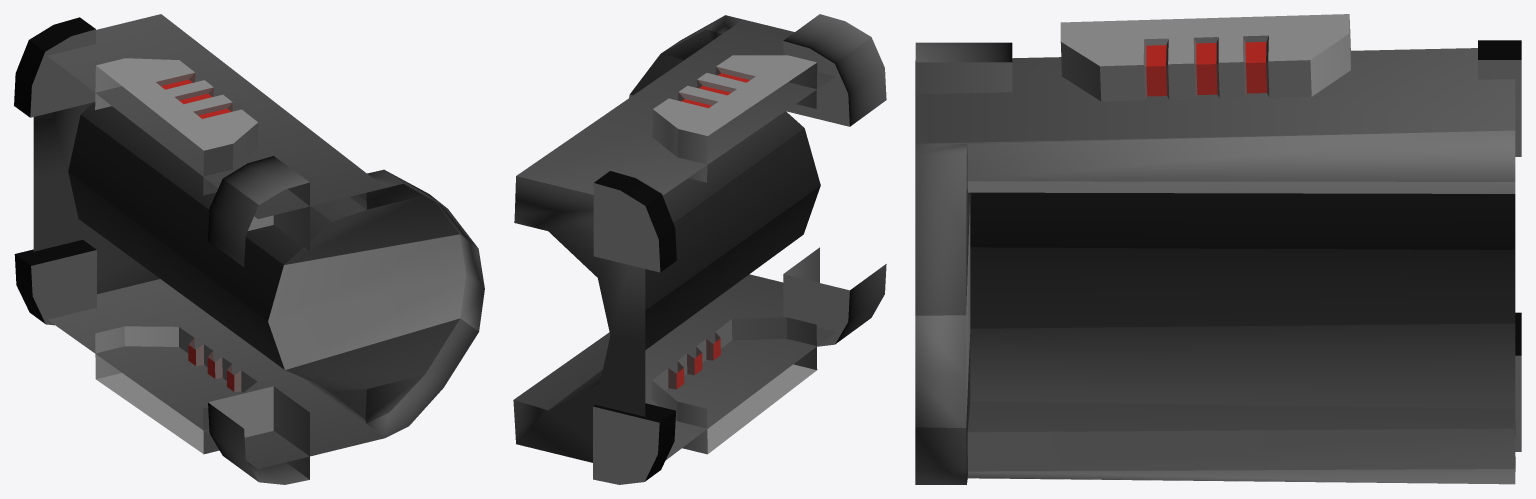
File: HotSauceReservoirHolder.fbx
3 views of the same model, side by side, from view 1: azimuth 30°, elevation 25°; view 2: azimuth 150°, elevation 25°; view 3: azimuth 270°, elevation 25° (orthographic). The views are drawn at different scales.
Visible parts, largest first — view 1: hotSauceHolder; view 2: hotSauceHolder; view 3: hotSauceHolder.
Boxes of the visible parts, bbox=[...] form: hotSauceHolder: bbox=[14, 14, 484, 484]; hotSauceHolder: bbox=[513, 14, 886, 484]; hotSauceHolder: bbox=[915, 14, 1521, 484].
Size of the model in its own units: 98.17 by 121 by 158.
